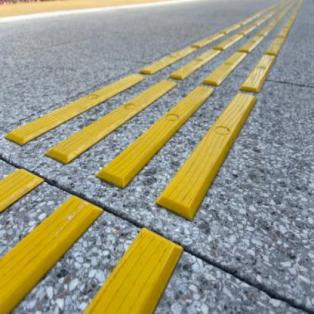Podoctatil: (1, 0, 303, 311)
